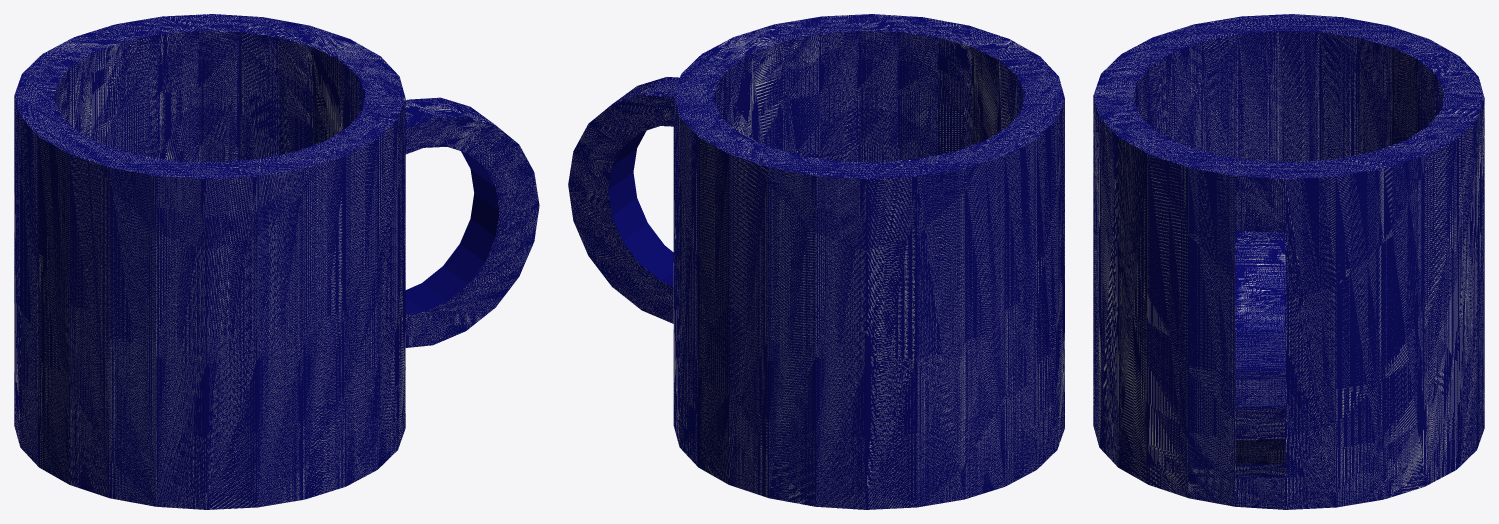
The picture shows the model from 3 angles, left to right: view 1: azimuth 30°, elevation 25°; view 2: azimuth 150°, elevation 25°; view 3: azimuth 270°, elevation 25°; orthographic projection.
Visible parts, largest first — view 1: mesh1_mesh1-geometry; view 2: mesh1_mesh1-geometry; view 3: mesh1_mesh1-geometry.
Part boxes in pixels (left/top/right/bottom): mesh1_mesh1-geometry: left=14, top=14, right=539, bottom=509; mesh1_mesh1-geometry: left=568, top=14, right=1064, bottom=509; mesh1_mesh1-geometry: left=1093, top=14, right=1484, bottom=509.
Size of the model in its own units: 0.7138 by 0.4778 by 0.5121.
